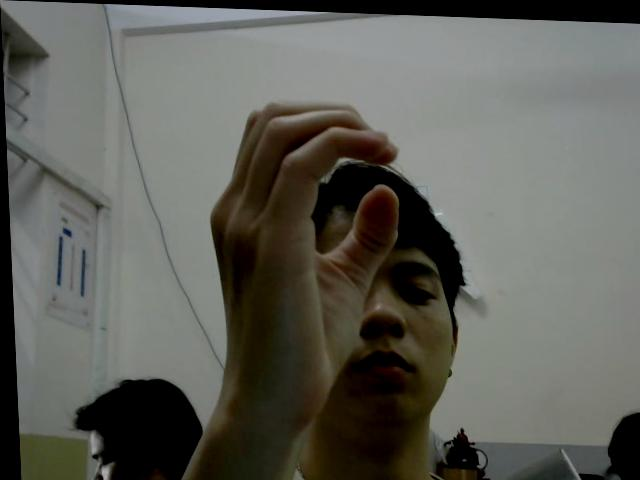C: (202, 94, 409, 421)
